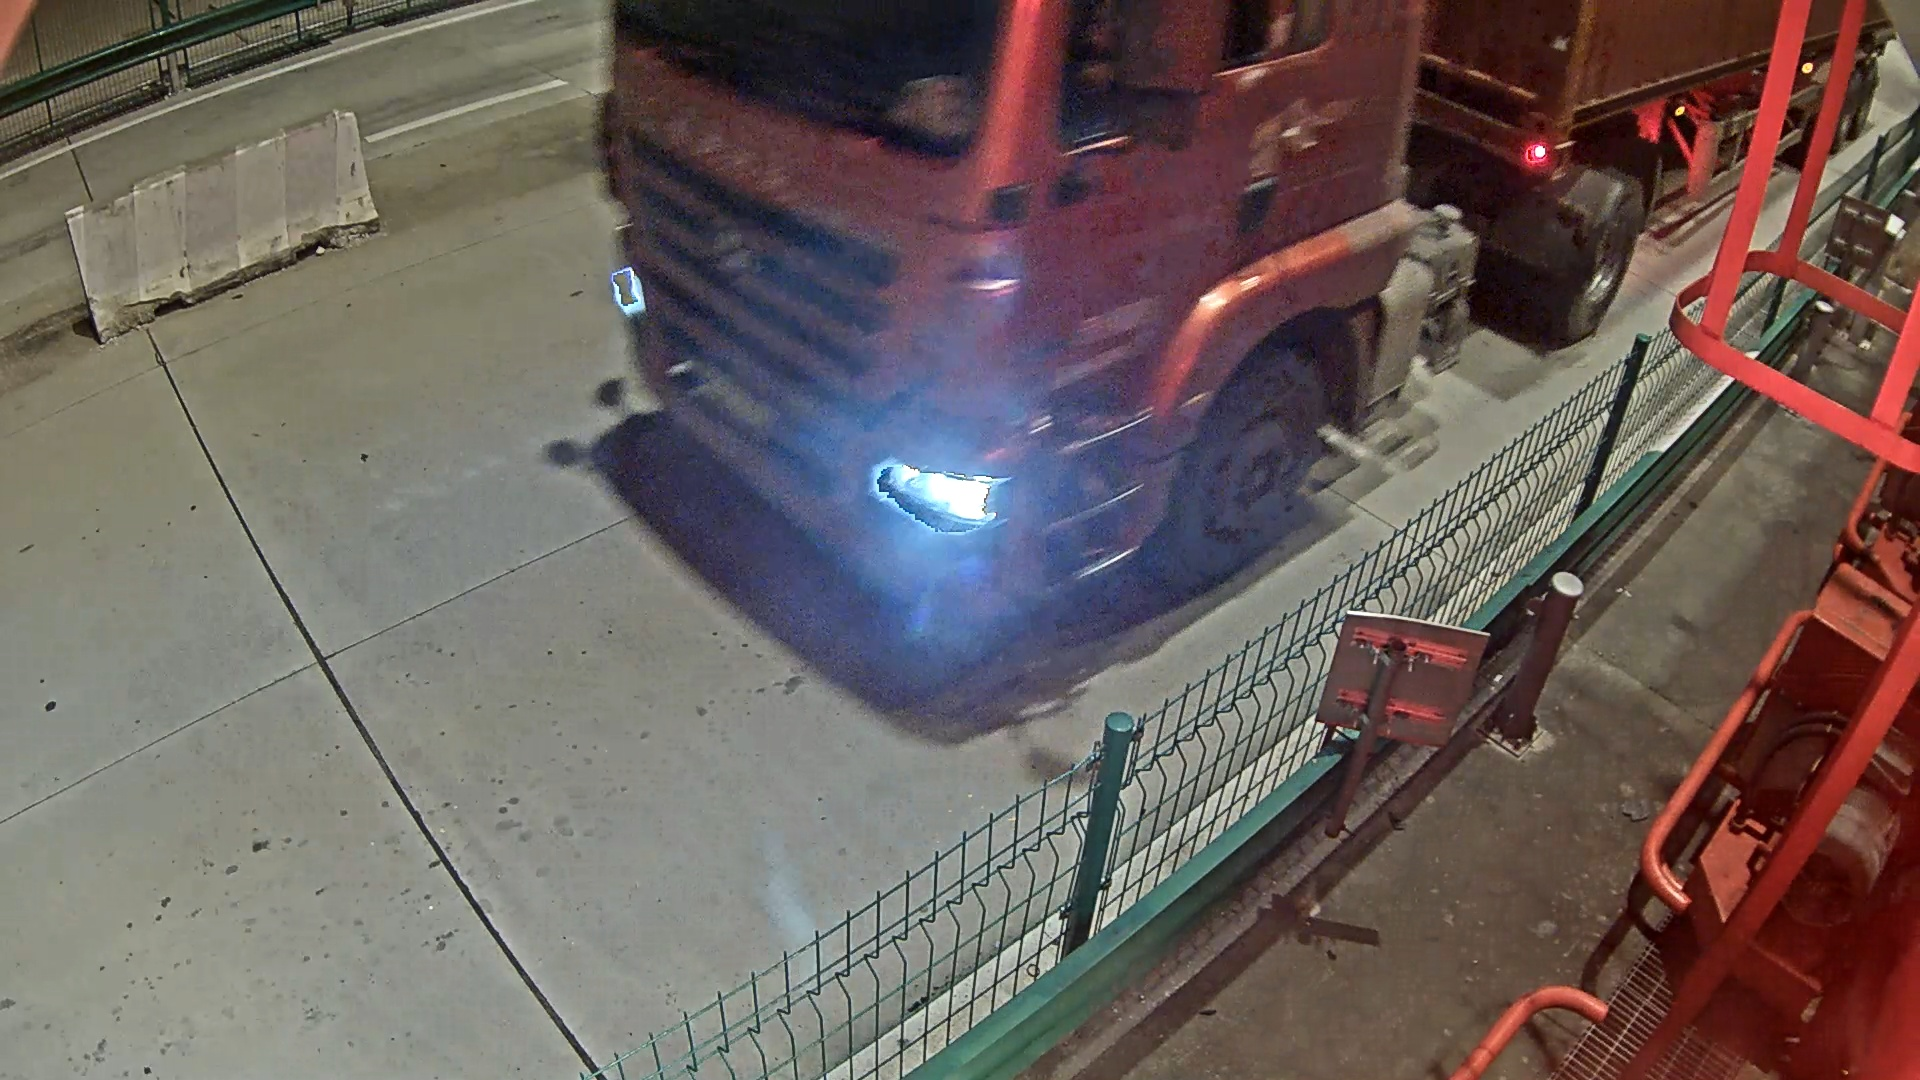head: (599, 21, 1345, 660)
plate: (688, 365, 806, 458)
